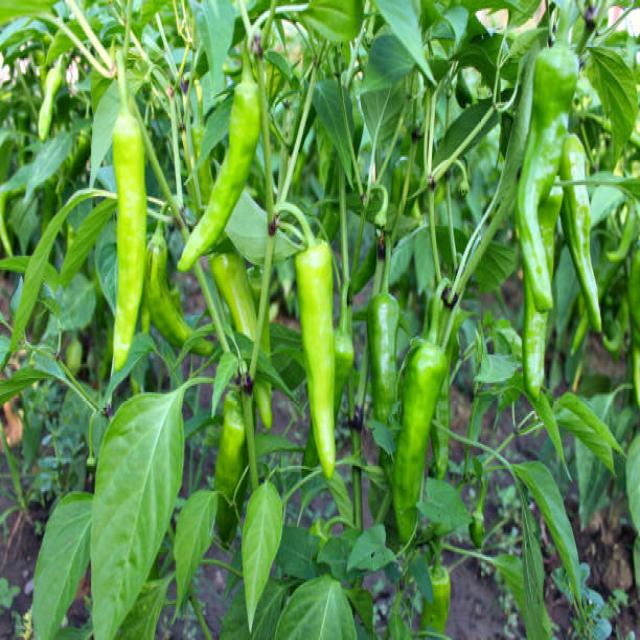Unripe: (512, 39, 585, 320), (274, 198, 342, 488), (394, 278, 452, 557), (180, 71, 259, 270), (144, 216, 224, 364), (559, 133, 607, 340), (112, 100, 145, 369), (363, 246, 402, 436), (212, 387, 252, 558), (207, 242, 260, 342), (522, 301, 549, 420)
